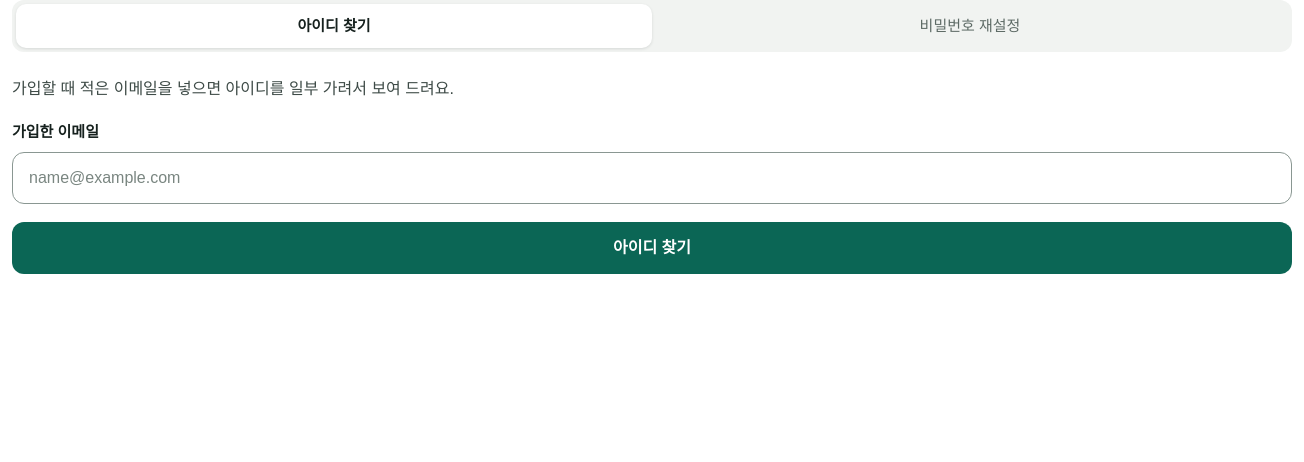
AccountRecoveryForm — 비밀번호 재설정 (이름 + 휴대폰 인증) › TEST-PWRESET-UI-004: 인증 실패 {"error":"mismatch"}
The image size is (1304, 462).
Click the tab "비밀번호 재설정".
click(970, 26)  # box [652,4,1288,48]
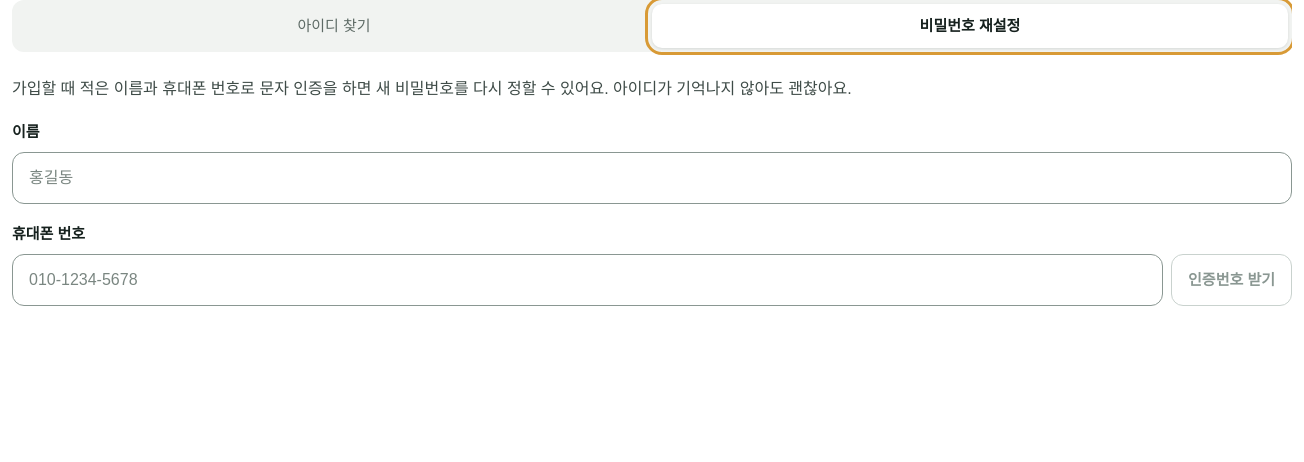
Type "정민선" into the field labelled "이름".
click(652, 178); type("정민선")  # box [29,166,1275,190]
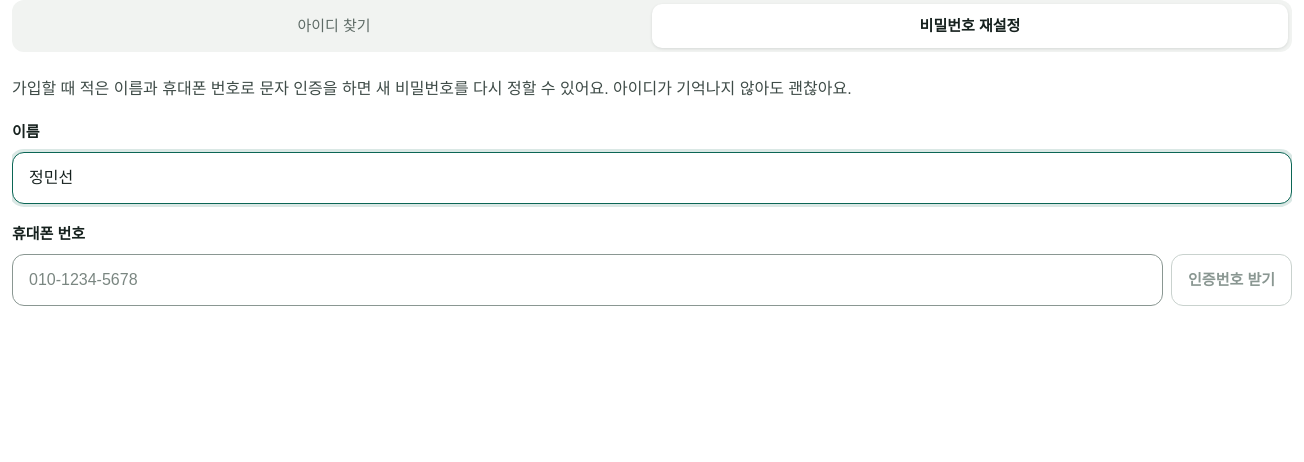
Type "01012345678" into the field labelled "휴대폰 번호".
click(588, 280); type("01012345678")  # box [29,268,1146,292]
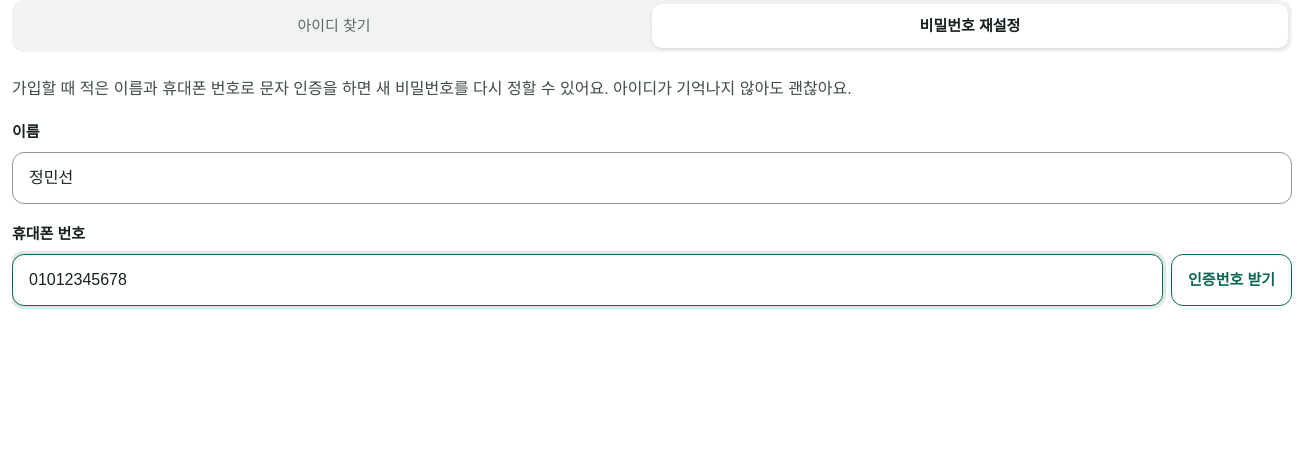
Click the button "인증번호 받기".
click(1232, 280)  # box [1171,254,1292,306]
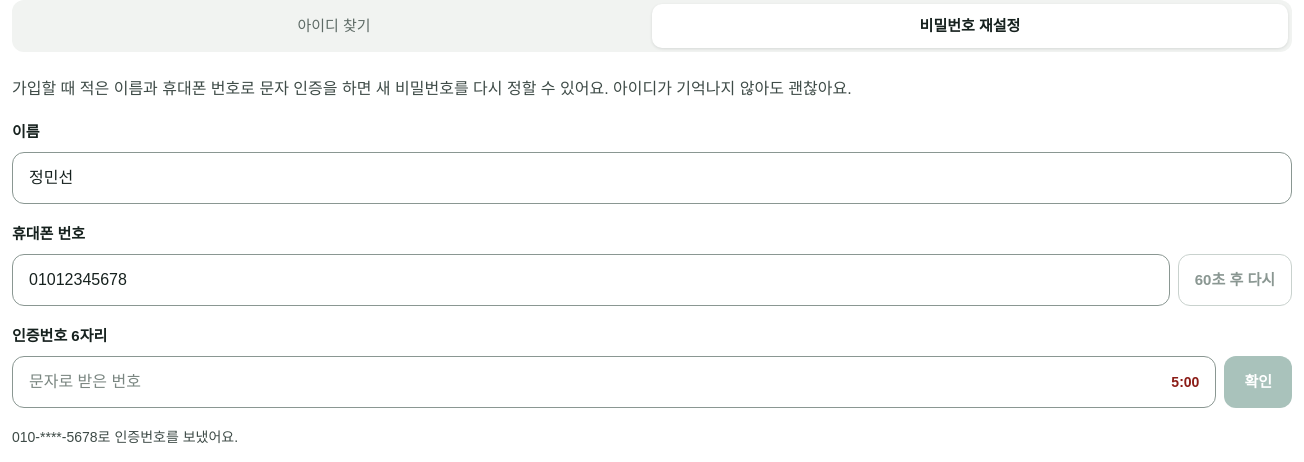
Type "000000" into the field labelled "인증번호 6자리".
click(600, 382); type("000000")  # box [29,370,1171,394]
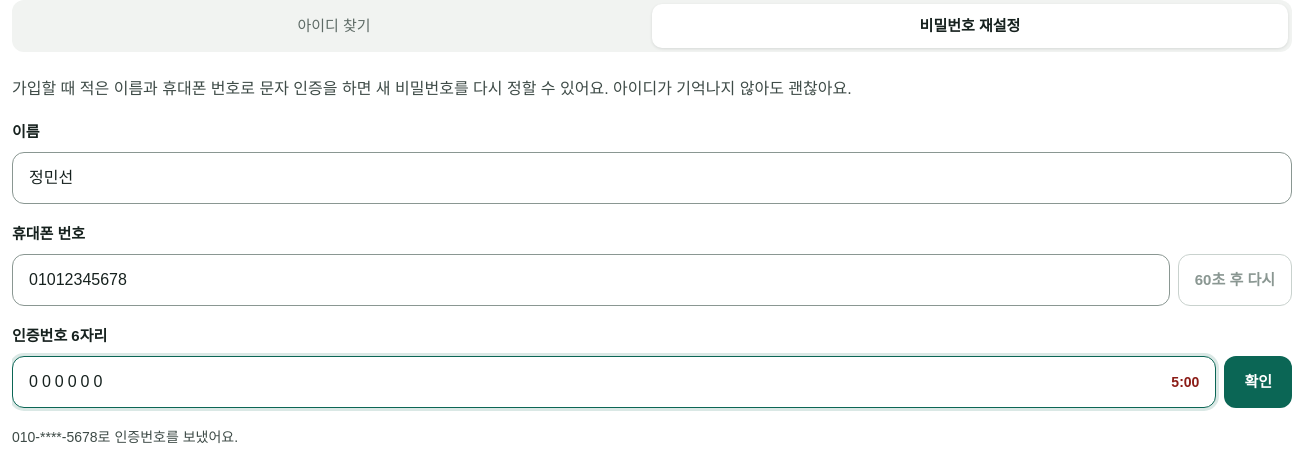
Click the button with aria-label "인증번호 확인".
click(1258, 382)  # box [1224,356,1292,408]
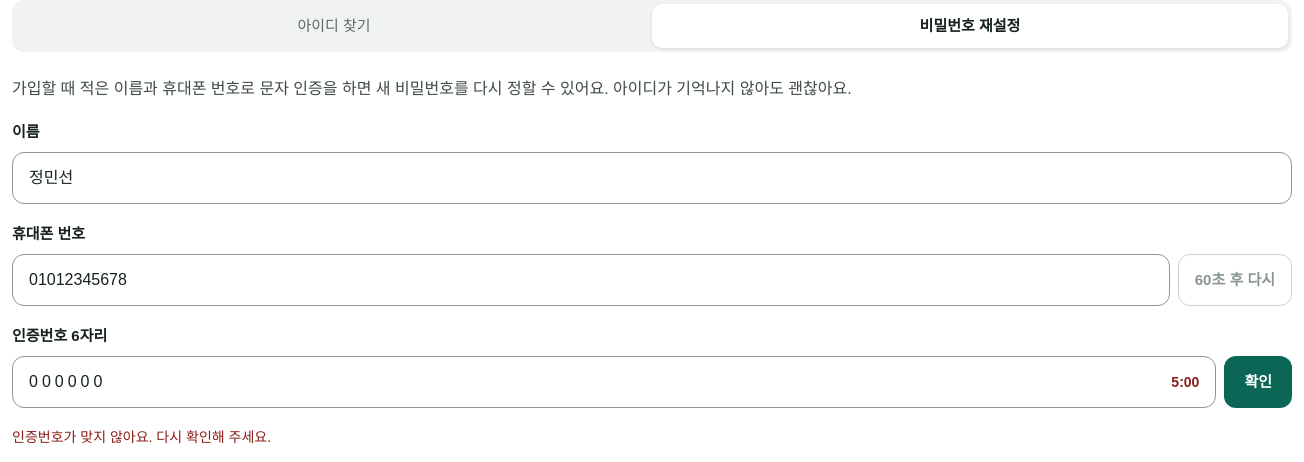
Now the message shows "인증번호가 맞지 않아요.", box [12,429,271,445]
